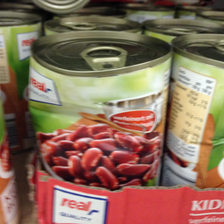beans: (29, 32, 172, 190)
